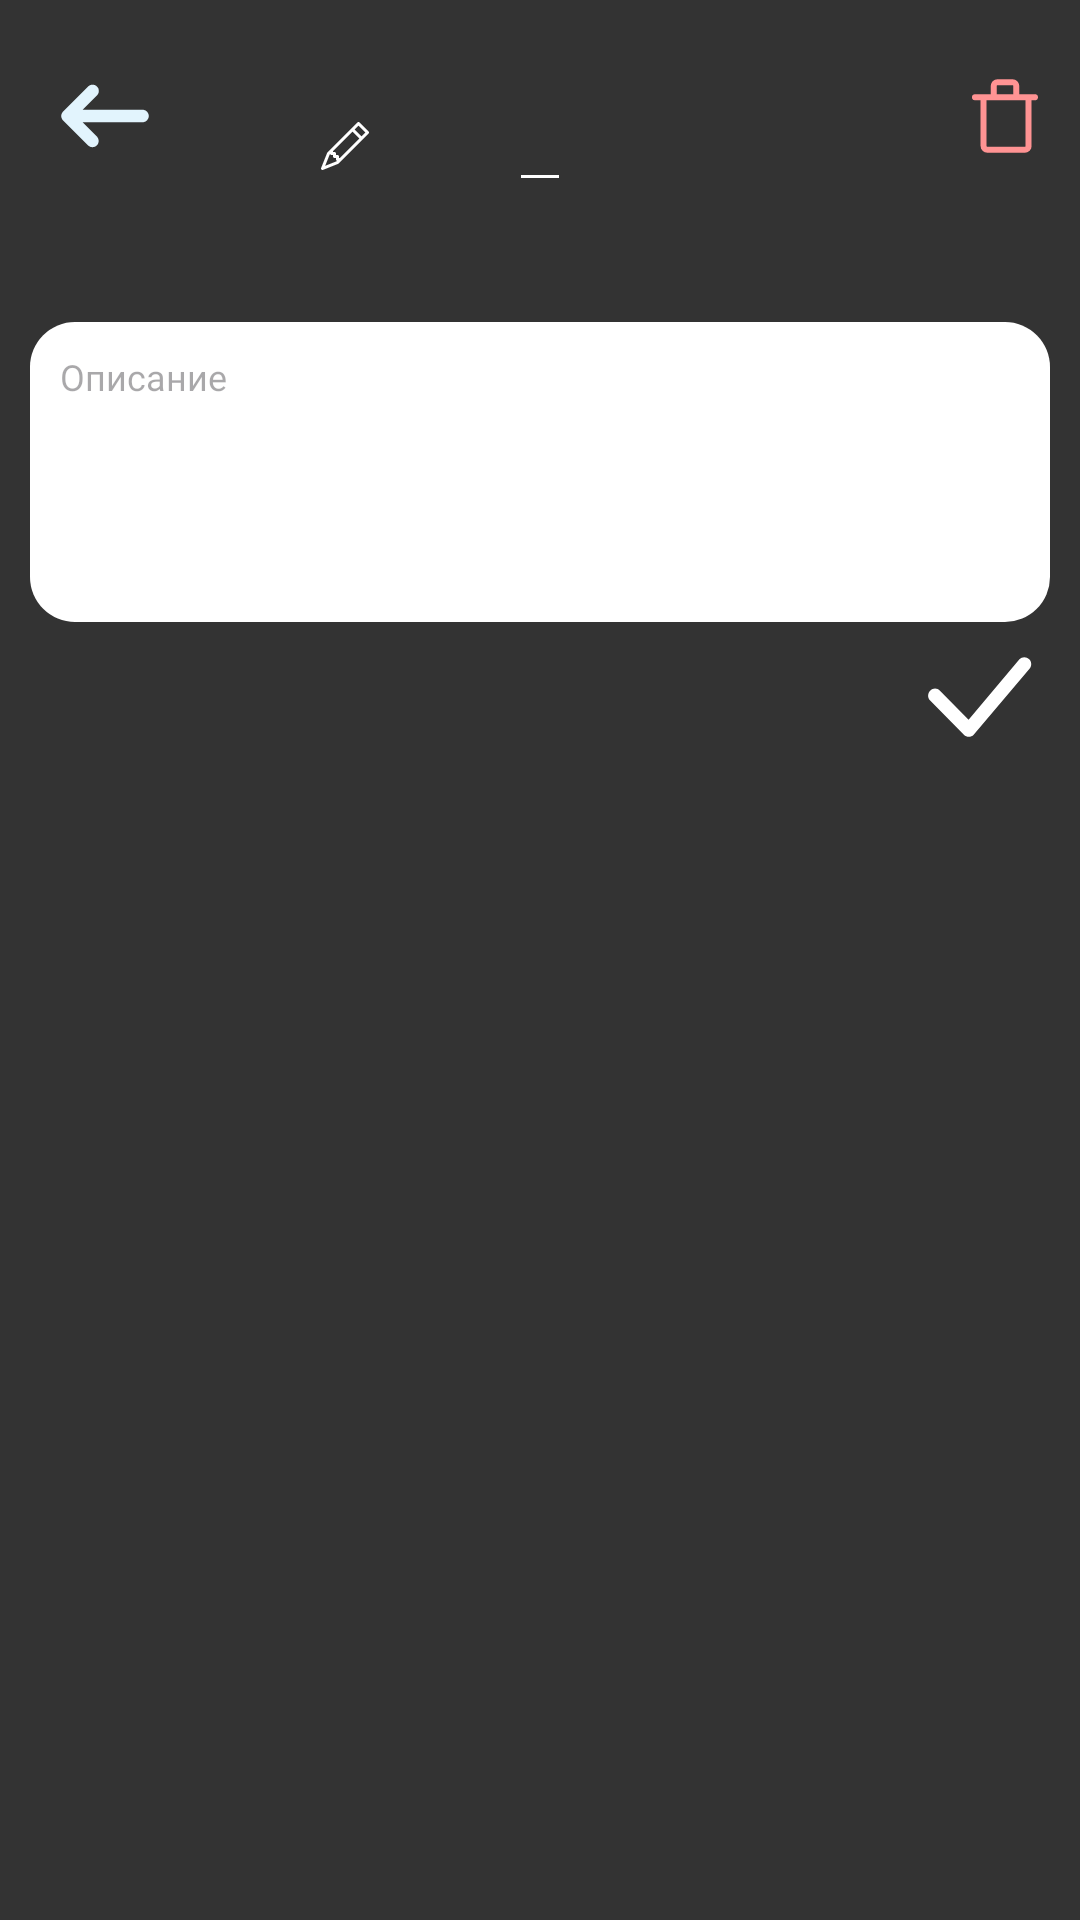

Screen size 1080*1920. Icon name, then its center in pixels as [x,y]:
arrow left: [105,116]
check lg: [980,697]
pencil: [345,146]
trash bin: [1005,116]
